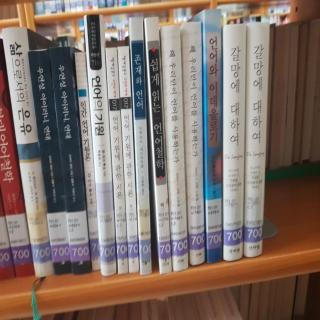book-spine: (1, 26, 54, 279), (28, 49, 72, 276), (49, 45, 92, 276), (84, 14, 117, 277), (0, 57, 35, 278), (239, 22, 269, 258), (145, 17, 172, 274), (161, 25, 189, 272), (219, 24, 246, 261), (129, 17, 152, 276), (182, 21, 205, 266), (75, 52, 100, 270), (105, 47, 128, 274), (117, 46, 139, 274), (204, 9, 223, 264), (0, 187, 15, 281), (26, 210, 52, 264), (6, 213, 33, 264), (66, 211, 90, 262), (47, 212, 71, 263), (222, 193, 244, 246), (243, 193, 264, 243), (97, 210, 116, 262), (169, 205, 188, 256), (187, 201, 205, 250), (206, 197, 222, 250), (157, 208, 171, 259), (138, 207, 151, 259), (87, 207, 100, 258), (0, 217, 13, 266), (115, 212, 128, 259), (126, 210, 138, 257)
